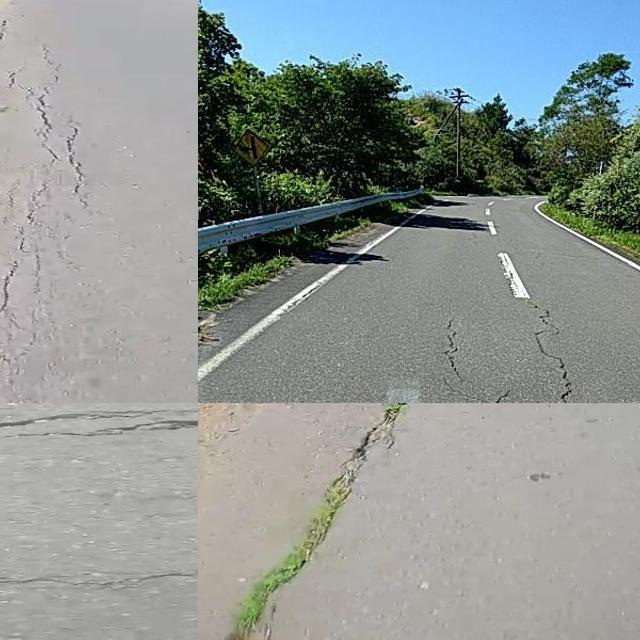Melintang: (0, 403, 198, 439)
Memanjang: (214, 403, 427, 640), (522, 290, 605, 403), (437, 305, 481, 388)
